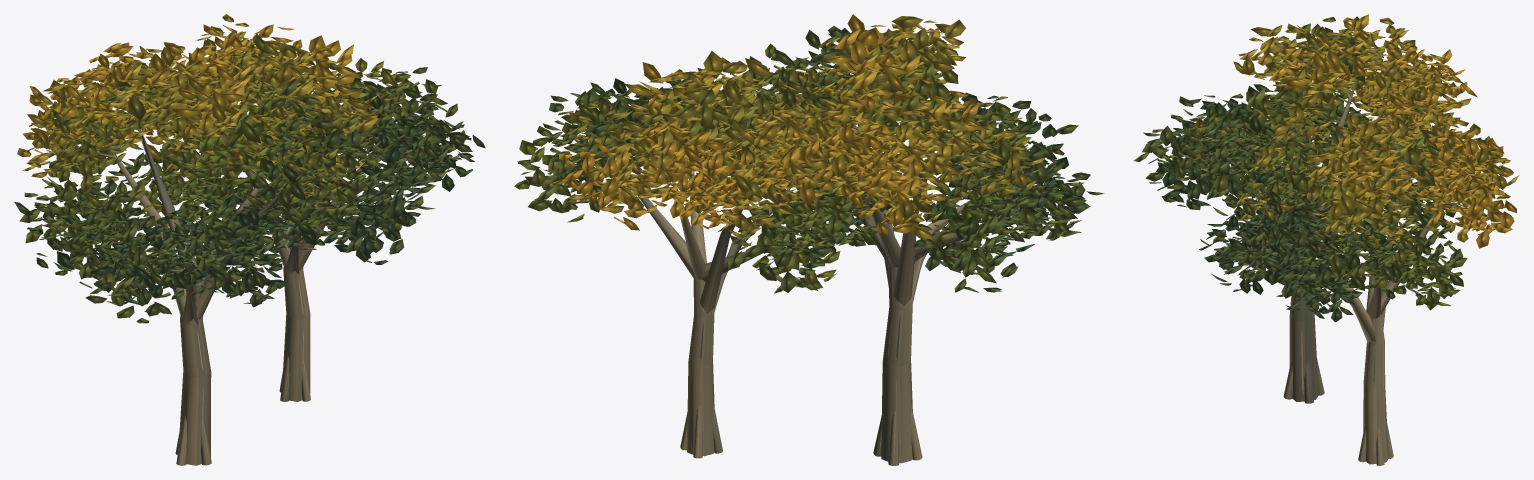
The model's file is ART_CastleGrove.glb.
3 renders of one model, left to right at view 1: azimuth 30°, elevation 25°; view 2: azimuth 150°, elevation 25°; view 3: azimuth 270°, elevation 25°, orthographic. The views are drawn at different scales.
Parts seen in each view (by area): view 1: ART_CastleGrove; view 2: ART_CastleGrove; view 3: ART_CastleGrove.
Boxes of the visible parts, <box> form: ART_CastleGrove: <box>14,14,485,465</box>; ART_CastleGrove: <box>514,14,1104,465</box>; ART_CastleGrove: <box>1133,14,1519,465</box>.
Bounding box in the file's own units: 16.24 × 14.06 × 13.44.
